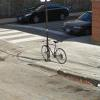Bicycle: (37, 36, 68, 66)
